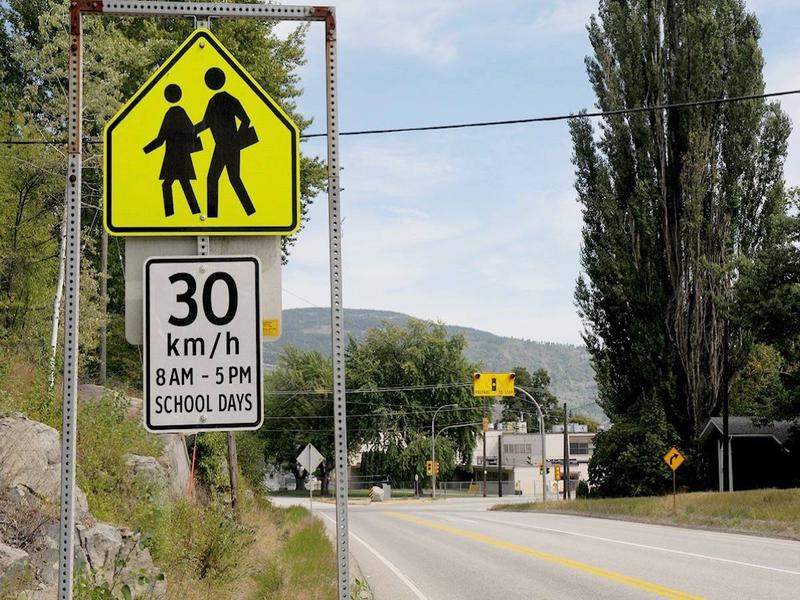slow: (97, 23, 305, 240)
